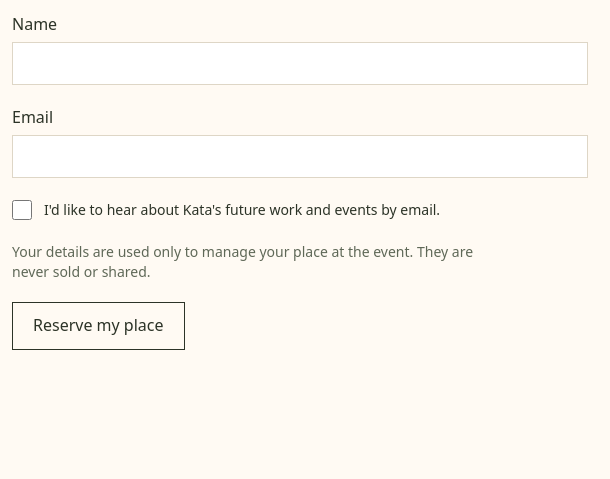
Scenario: RsvpForm › surfaces a rate-limit response as a readable message
This screenshot has width=610, height=479.
Step 1. Type "Guest" into the field labelled "Name" → (300, 63), box [12, 42, 588, 85]
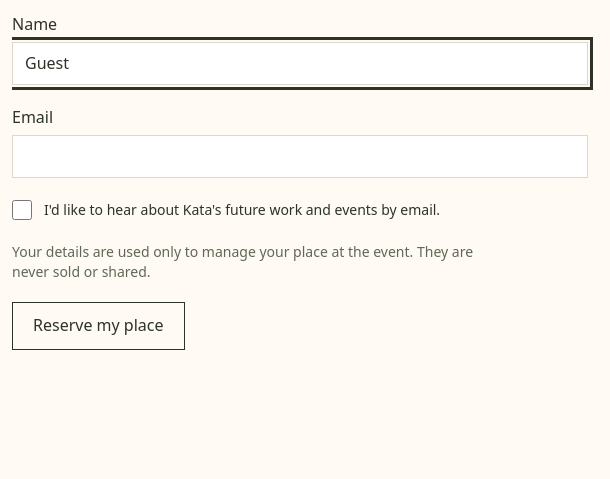
Step 2. Type "guest@example.com" into the field labelled "Email" → (300, 157), box [12, 135, 588, 178]
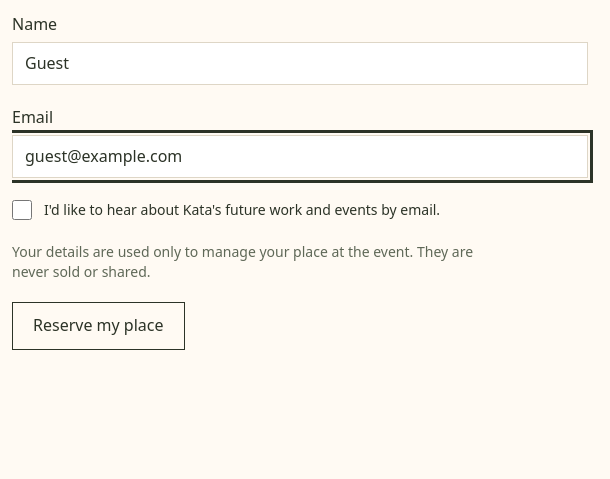
Step 3. Click the button "Reserve my place" → (98, 326), box [12, 302, 184, 350]
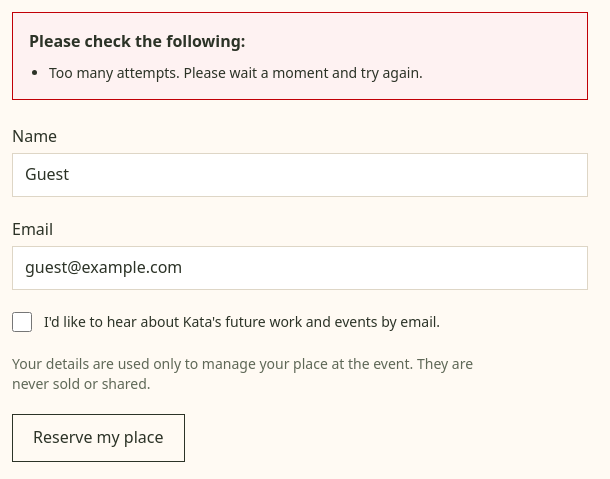
Check: the message shows "Too many attempts. Please wait a moment and try again.", box [49, 63, 423, 82]
